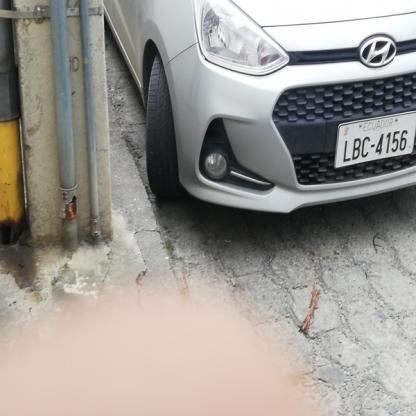Placa: (337, 110, 416, 176)
